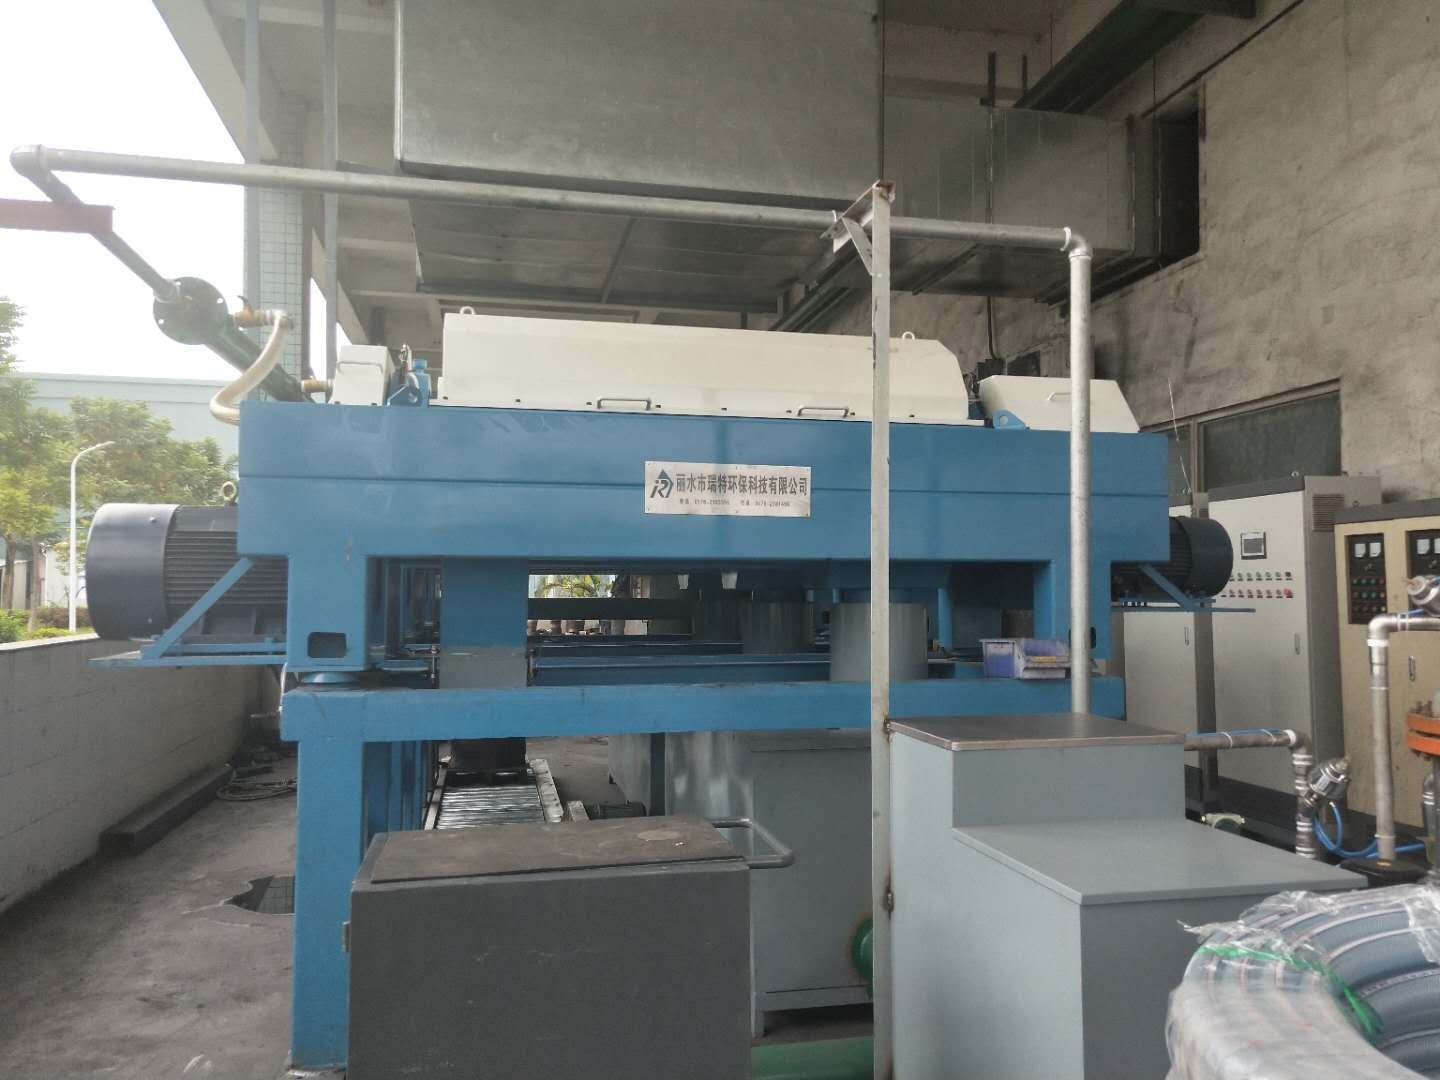oil: (225, 857, 293, 933)
